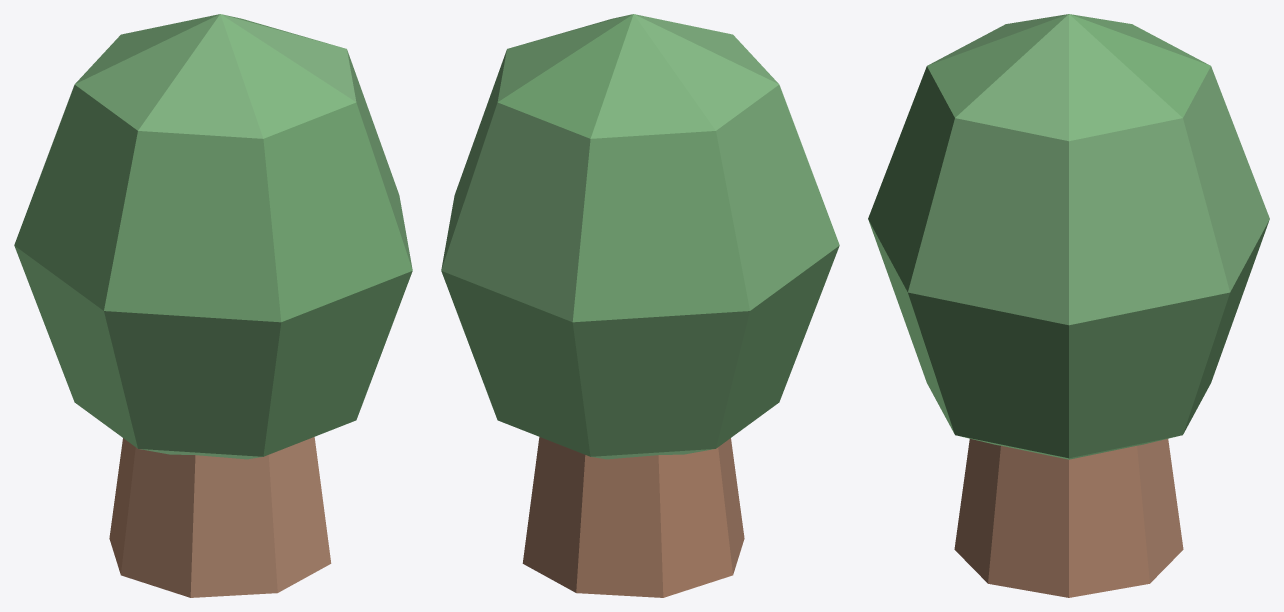
Rendered from furn_plant.glb.
3 renders of one model, left to right at view 1: azimuth 30°, elevation 25°; view 2: azimuth 150°, elevation 25°; view 3: azimuth 270°, elevation 25°, orthographic.
Parts seen in each view (by area): view 1: furn_plant2; view 2: furn_plant2; view 3: furn_plant2.
Part boxes in pixels (x1,y1,x2,y2): furn_plant2: (14,14,412,597); furn_plant2: (441,14,839,597); furn_plant2: (868,14,1269,597).
Size of the model in its own units: 0.8554 by 1.29 by 0.8774.
